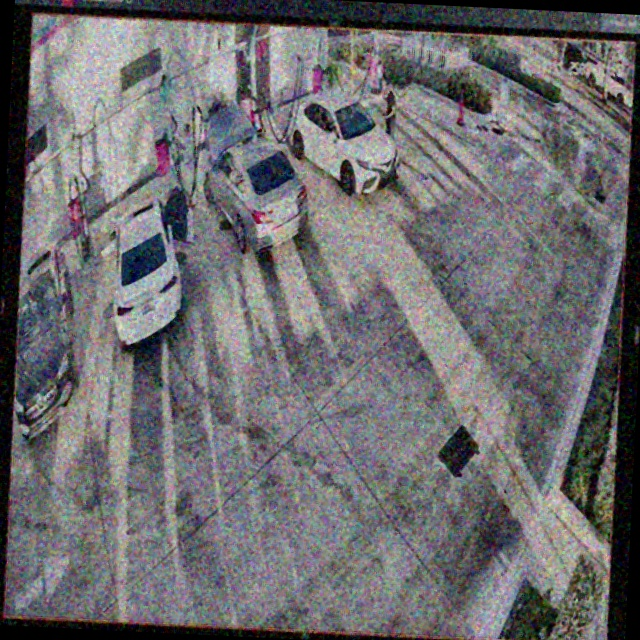Car: (200, 112, 315, 255), (111, 184, 189, 350), (282, 86, 403, 193)
